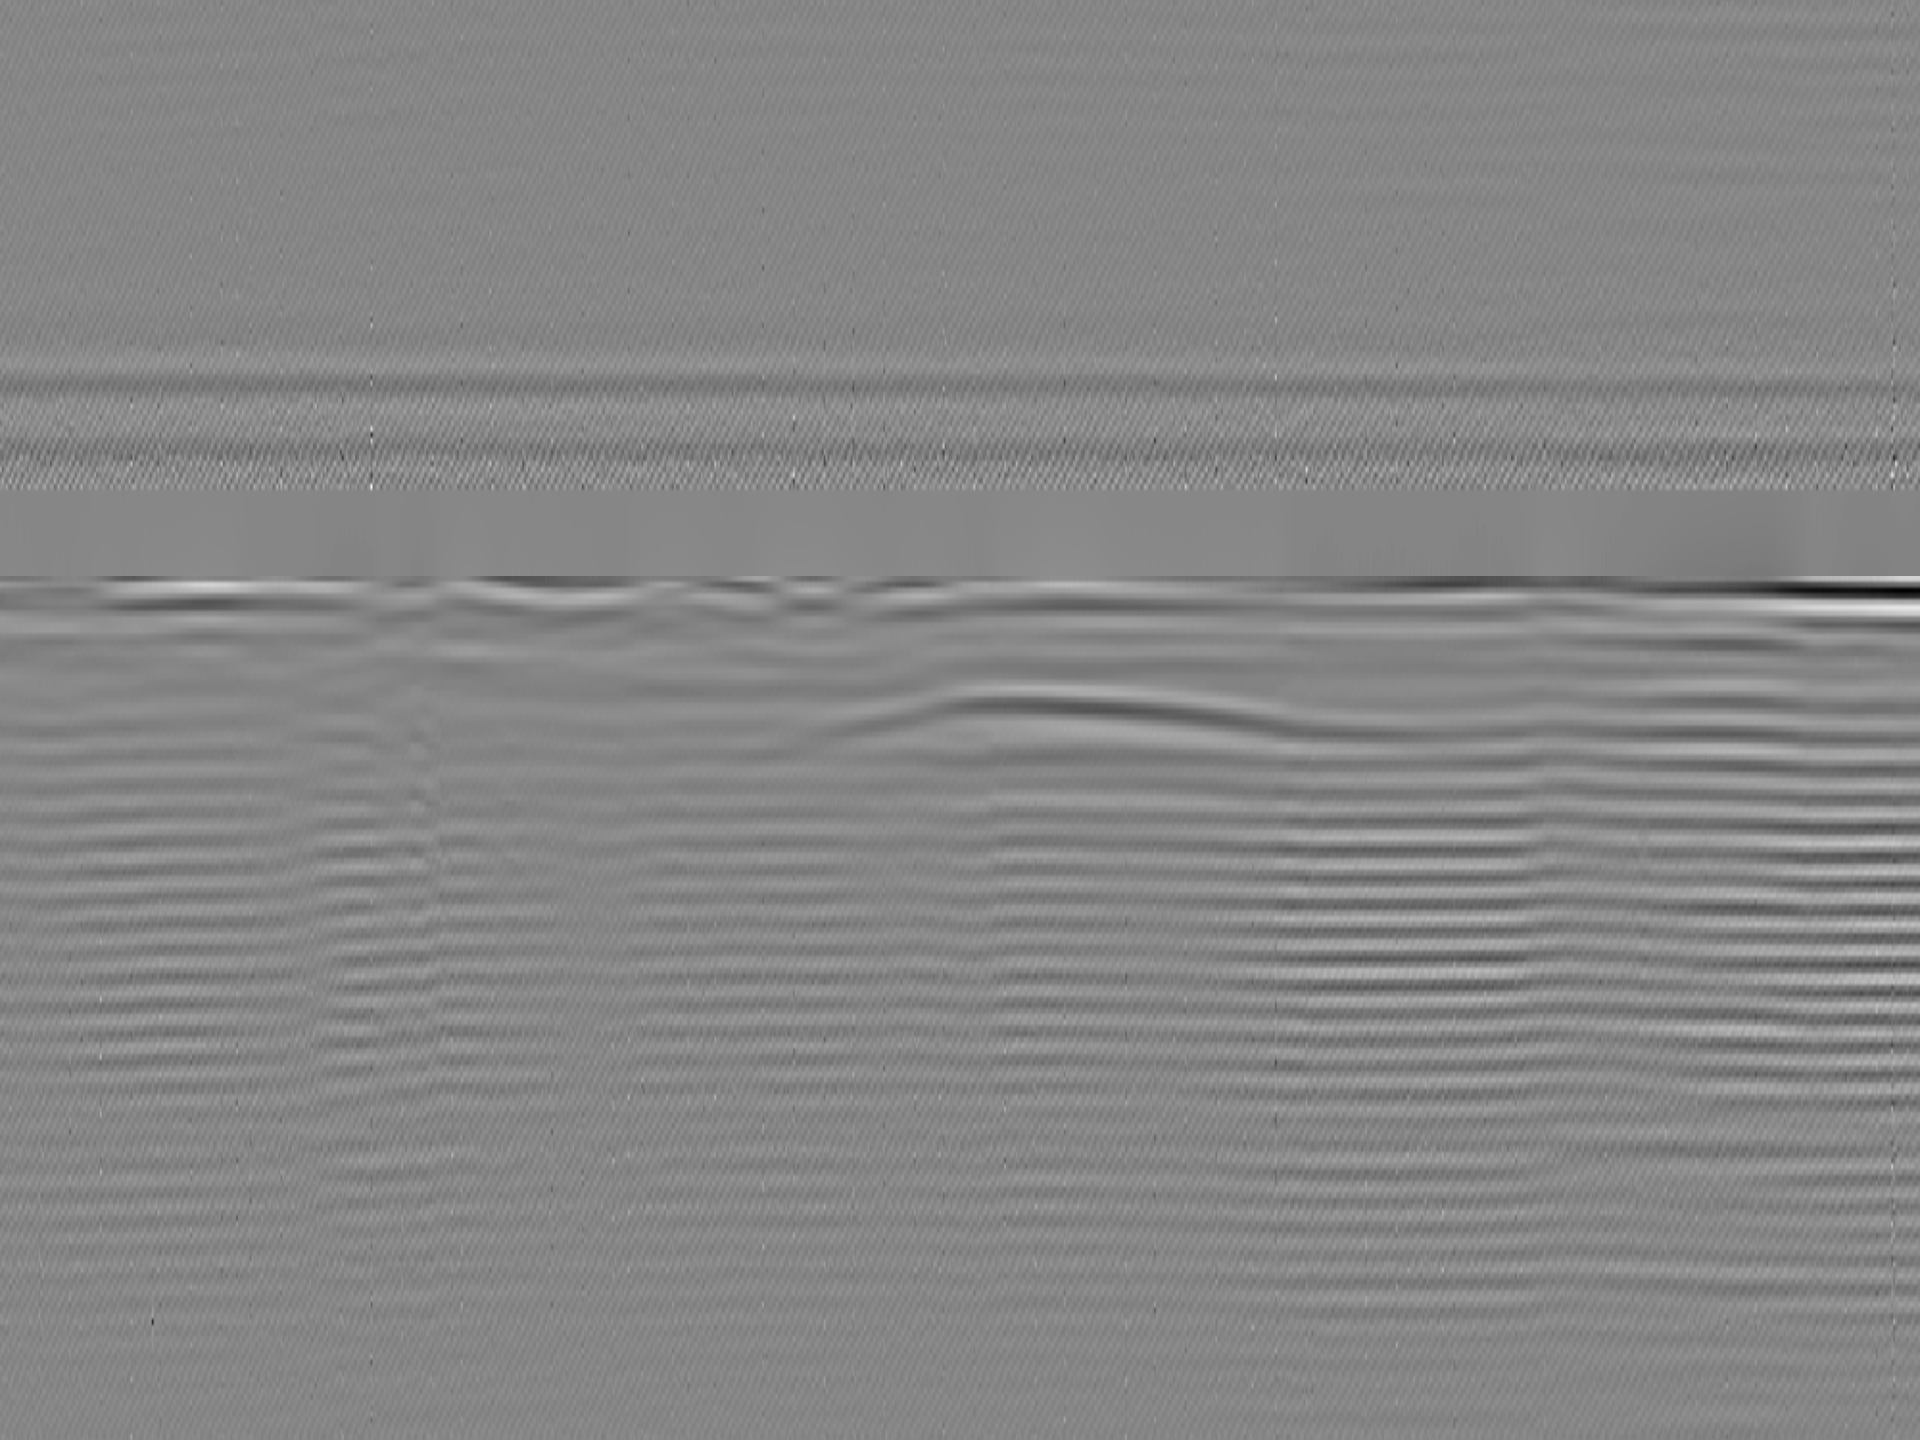Tunnel: (779, 685, 1376, 755)
